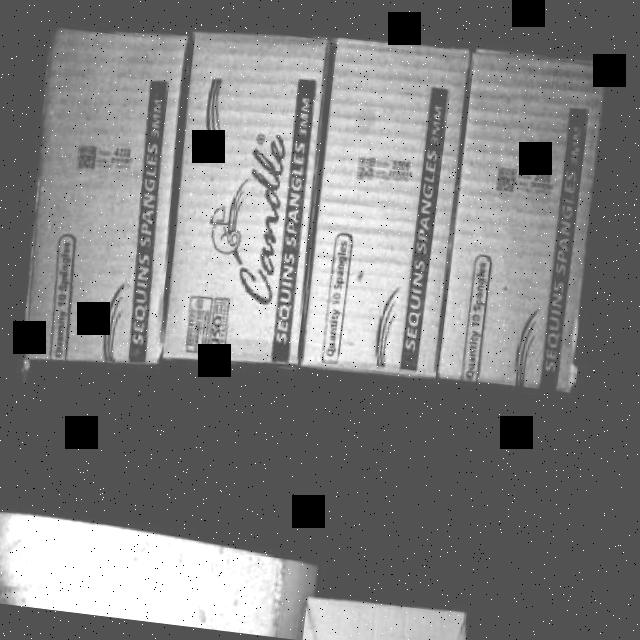box: (17, 24, 200, 368), (437, 39, 616, 387), (301, 42, 474, 379), (164, 36, 335, 367)
